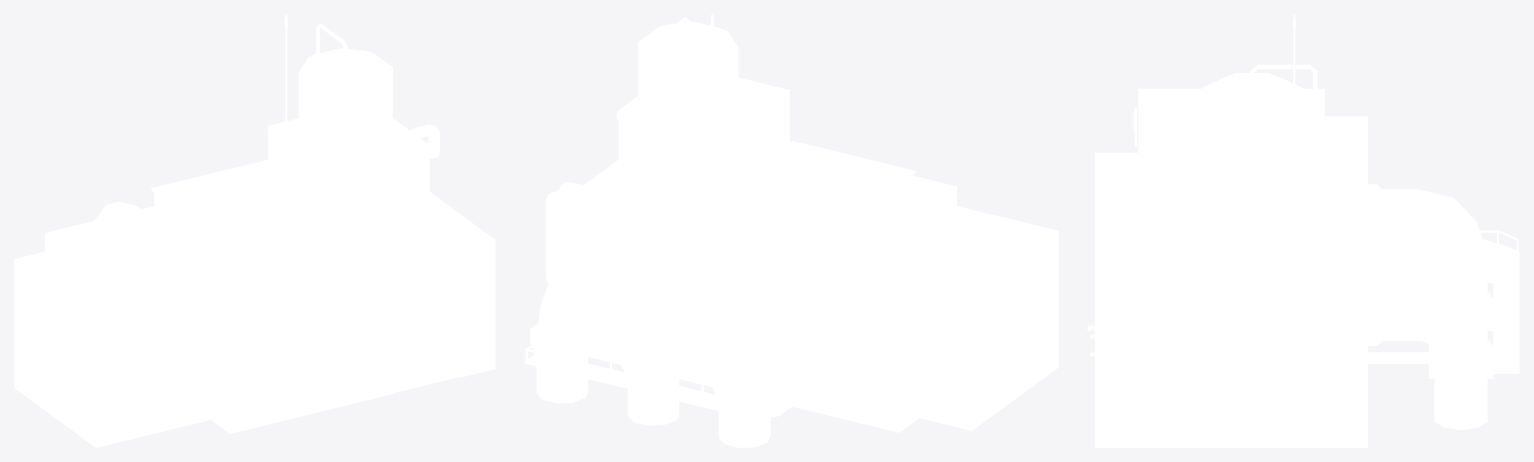
Rendered from water-station-large-ground.glb.
3 views of the same model, side by side, from view 1: azimuth 30°, elevation 25°; view 2: azimuth 150°, elevation 25°; view 3: azimuth 270°, elevation 25° (orthographic). The views are drawn at different scales.
Parts seen in each view (by area): view 1: water-station-large-ground; view 2: water-station-large-ground; view 3: water-station-large-ground.
Part boxes in pixels (x1,y1,x2,y2): water-station-large-ground: (14, 14, 495, 447); water-station-large-ground: (524, 14, 1058, 447); water-station-large-ground: (1087, 14, 1519, 447).
Bounding box in the file's own units: 28.96 × 22.32 × 23.91.
Materials: 1 (1 with a texture image).
